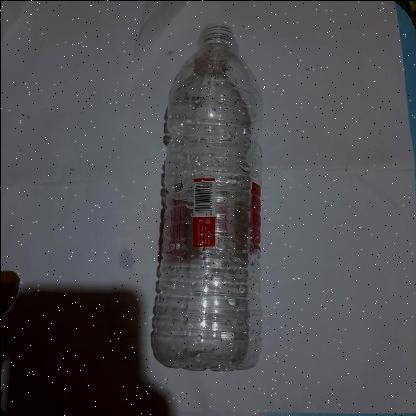Plastic Bottle: (148, 24, 262, 372)
